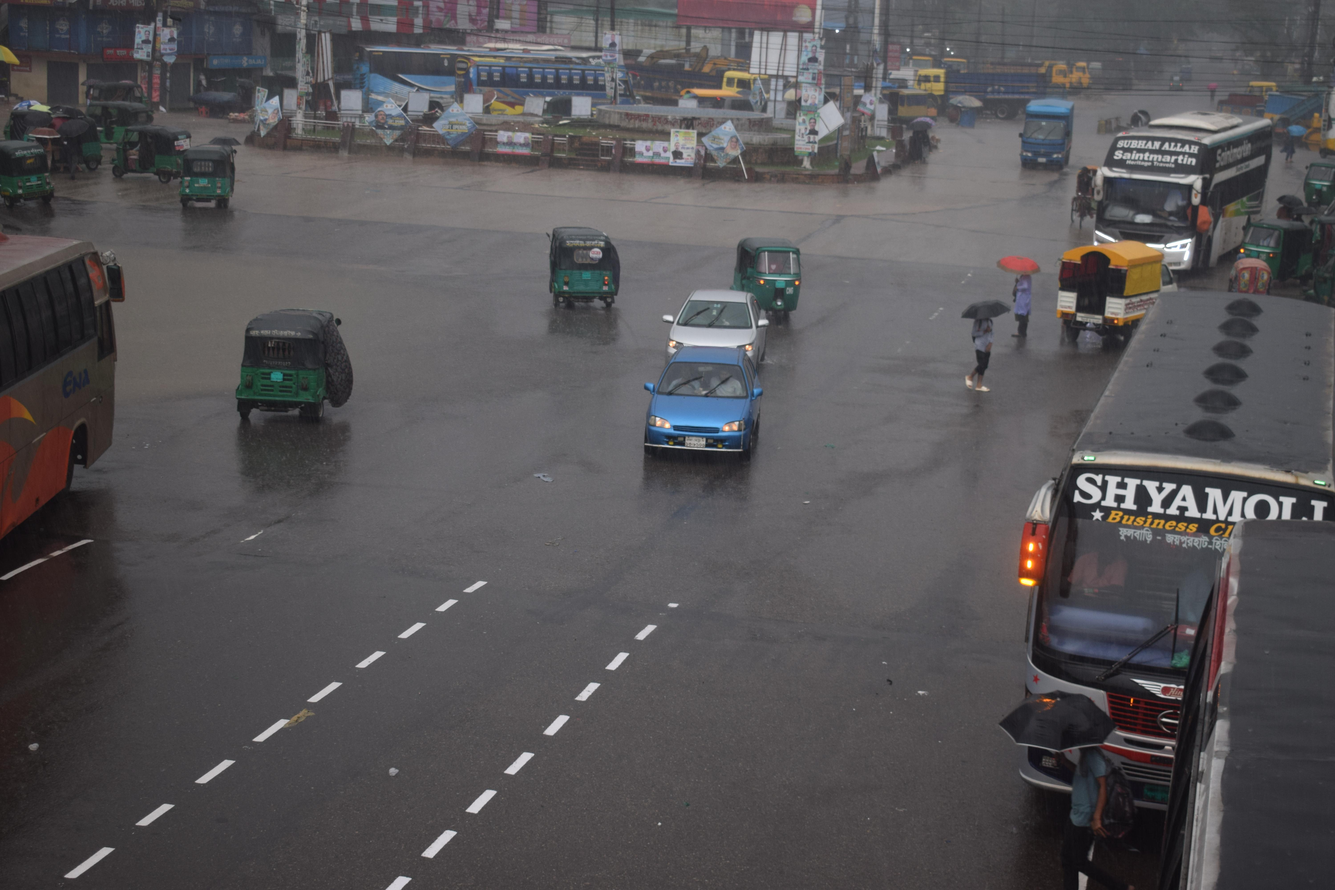Bus: (986, 255, 1335, 815), (1127, 481, 1335, 890), (0, 204, 142, 556), (1057, 96, 1299, 273), (424, 32, 643, 175), (316, 19, 509, 154), (890, 39, 1068, 127)
Car: (631, 242, 795, 389), (622, 330, 777, 485), (1036, 224, 1203, 363), (996, 88, 1088, 207)
